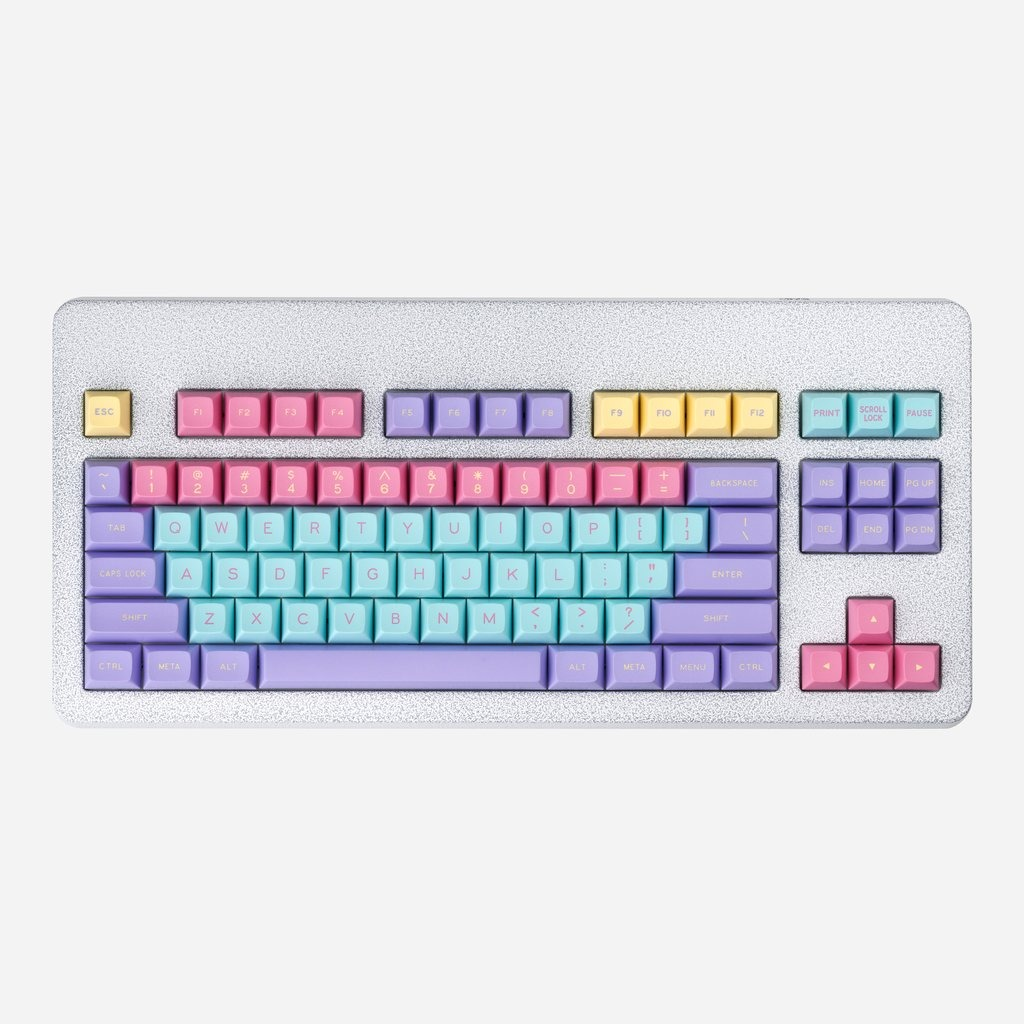keyboard: (54, 296, 972, 734)
